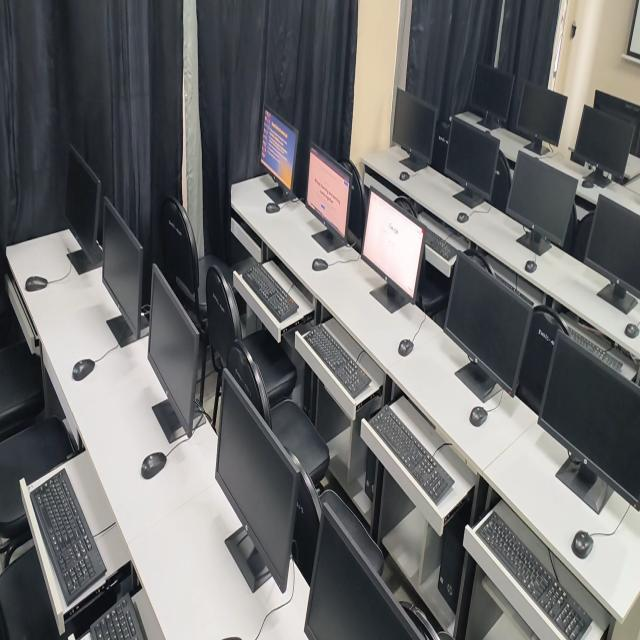Chair: (224, 337, 330, 485), (206, 265, 296, 405), (292, 466, 383, 585), (0, 417, 77, 539), (162, 197, 231, 330), (0, 547, 64, 639), (515, 306, 567, 414), (0, 342, 44, 441), (341, 159, 368, 249), (490, 151, 511, 212), (210, 281, 225, 319)
Cpu: (438, 500, 471, 613), (364, 447, 377, 501)
Keyboard: (476, 510, 591, 639), (30, 469, 106, 606), (369, 406, 454, 504), (305, 325, 371, 399), (242, 264, 297, 321), (90, 593, 146, 639), (568, 327, 622, 370), (423, 225, 457, 261)
Monitor: (216, 370, 312, 592), (538, 331, 640, 509), (305, 501, 420, 639), (444, 254, 533, 395), (148, 265, 205, 438), (505, 151, 577, 255), (363, 192, 424, 298), (102, 198, 148, 338), (583, 194, 640, 299), (444, 116, 500, 208), (571, 105, 632, 188), (65, 145, 103, 273), (306, 146, 350, 244), (513, 82, 566, 153), (393, 88, 437, 171), (466, 63, 514, 130), (593, 90, 640, 158), (261, 108, 298, 194)
Mouse: (141, 452, 166, 479), (572, 530, 593, 559), (72, 359, 95, 380), (469, 406, 488, 426), (25, 276, 48, 292), (398, 339, 414, 356), (625, 324, 640, 338), (312, 258, 328, 271), (525, 260, 537, 273), (266, 203, 280, 213), (457, 212, 469, 223), (399, 172, 410, 180)
